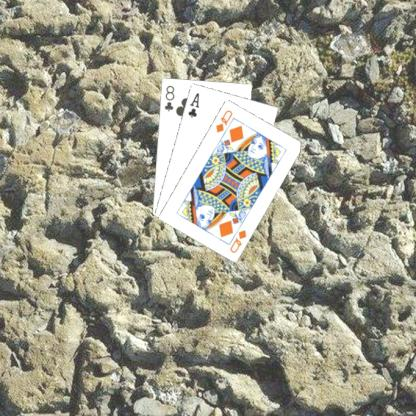8C: (161, 82, 176, 112)
AC: (185, 90, 201, 119)
QD: (227, 226, 248, 254), (213, 106, 233, 134)
